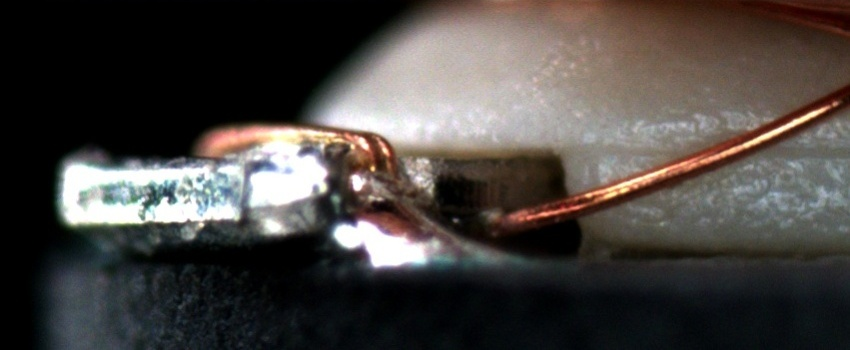DL: (586, 119, 848, 188)
TE: (194, 120, 405, 177)
